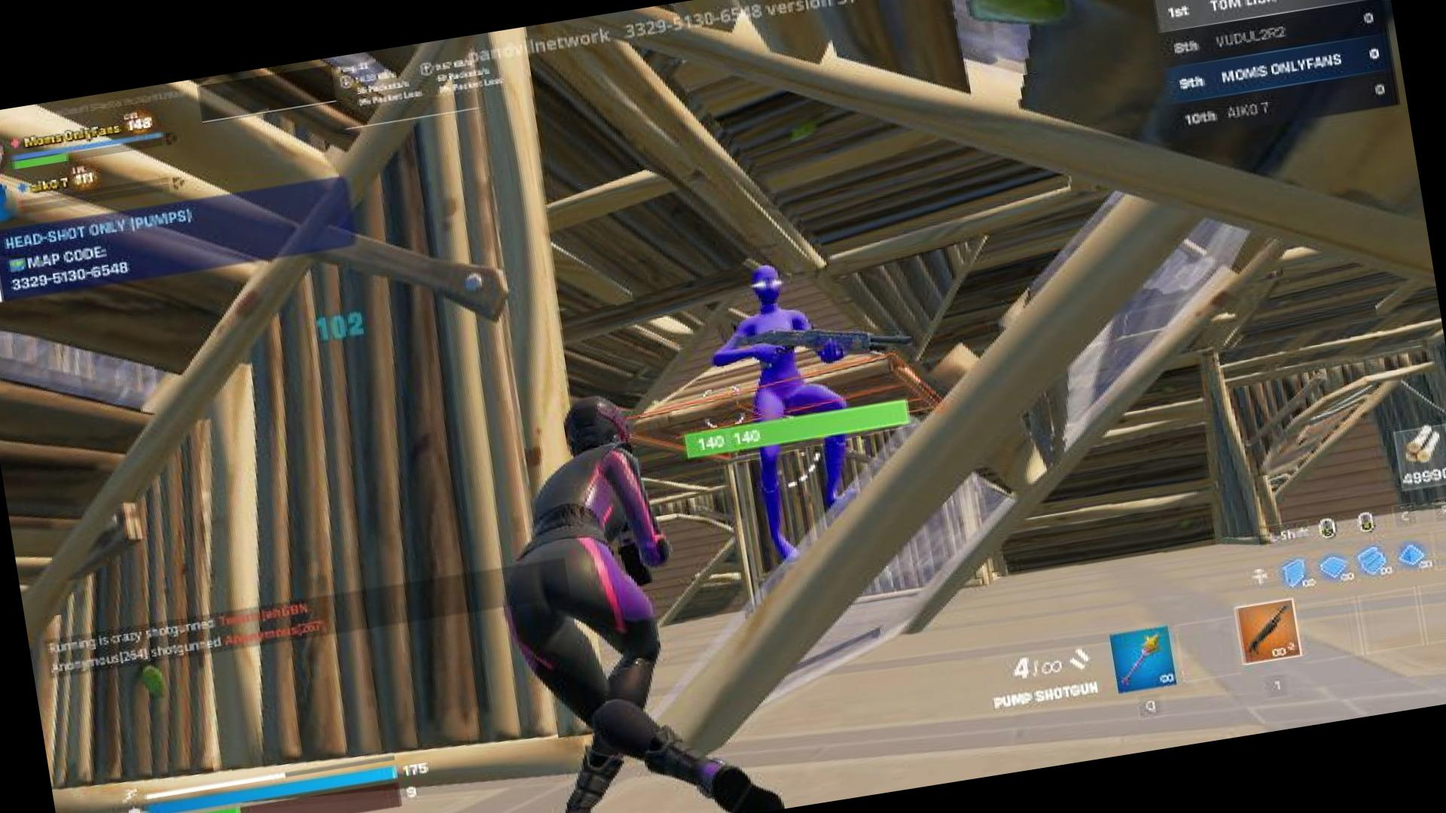player: (686, 234, 894, 601)
